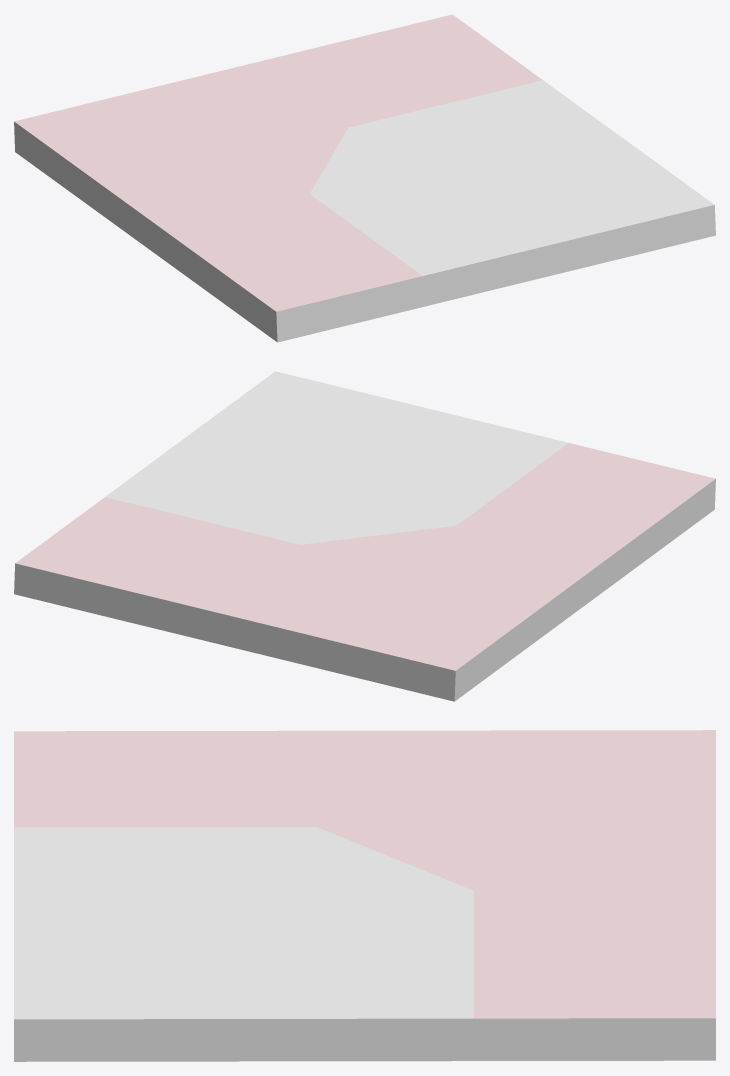
Rendered from FreighterCornerFloorTile1.fbx.
3 views of the same model, one above another, from view 1: azimuth 30°, elevation 25°; view 2: azimuth 150°, elevation 25°; view 3: azimuth 270°, elevation 25° (orthographic). The views are drawn at different scales.
Parts seen in each view (by area): view 1: Cube, Cube.002; view 2: Cube, Cube.002; view 3: Cube.002, Cube.
Boxes of the visible parts, bbox=[...] form: Cube: bbox=[14, 80, 715, 342]; Cube.002: bbox=[14, 14, 542, 311]; Cube: bbox=[14, 371, 715, 701]; Cube.002: bbox=[15, 443, 715, 670]; Cube.002: bbox=[14, 730, 715, 1018]; Cube: bbox=[14, 827, 715, 1061].
Size of the model in its own units: 305 by 20.44 by 312.
